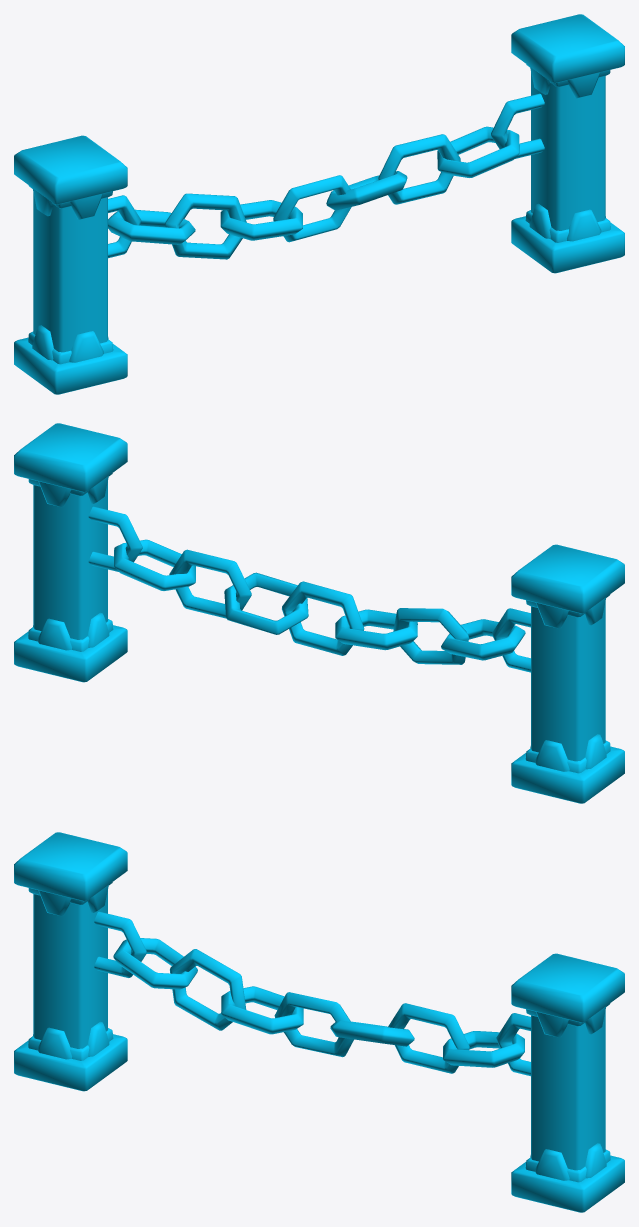
File: FenceChain1.FBX
3 views of the same model, one above another, from view 1: azimuth 30°, elevation 25°; view 2: azimuth 150°, elevation 25°; view 3: azimuth 330°, elevation 25° (orthographic).
Visible parts, largest first — view 1: FenceChain1; view 2: FenceChain1; view 3: FenceChain1.
Part boxes in pixels (left/top/right/bottom): FenceChain1: left=14, top=14, right=624, bottom=394; FenceChain1: left=14, top=423, right=624, bottom=803; FenceChain1: left=14, top=832, right=624, bottom=1212.
Size of the model in its own units: 3.44 by 1.24 by 0.4513.
